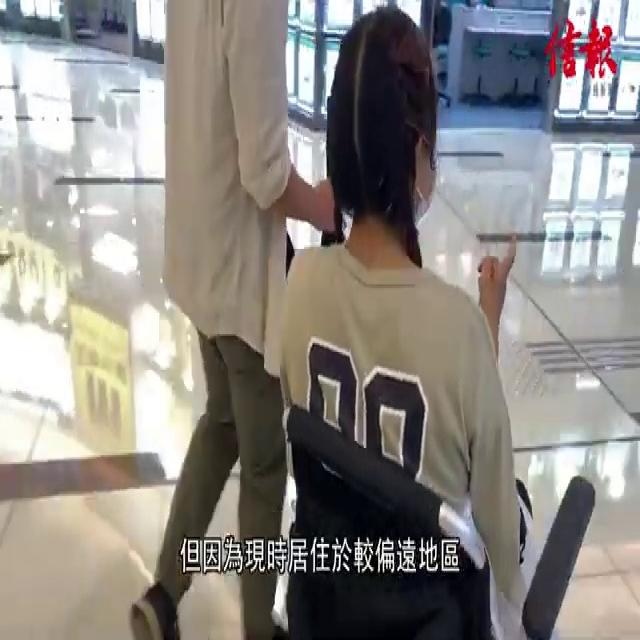wheelchairs: (265, 361, 599, 640)
